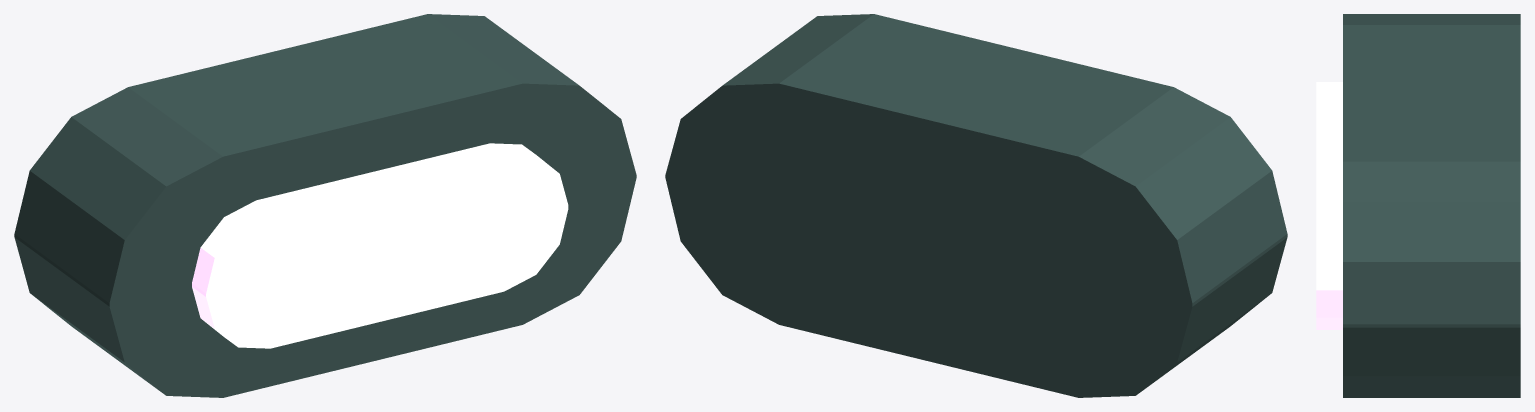
File: Signal_Lamp3D.gltf
3 renders of one model, left to right at view 1: azimuth 30°, elevation 25°; view 2: azimuth 150°, elevation 25°; view 3: azimuth 270°, elevation 25°, orthographic. The views are drawn at different scales.
Visible parts, largest first — view 1: Signal_Lamp3D_baked; view 2: Signal_Lamp3D_baked; view 3: Signal_Lamp3D_baked.
Boxes of the visible parts, x1,y1,x2,y2 form: Signal_Lamp3D_baked: (14, 14, 636, 397); Signal_Lamp3D_baked: (665, 14, 1287, 397); Signal_Lamp3D_baked: (1316, 14, 1520, 397).
Bounding box in the file's own units: 0.32 × 0.14 × 0.115.
